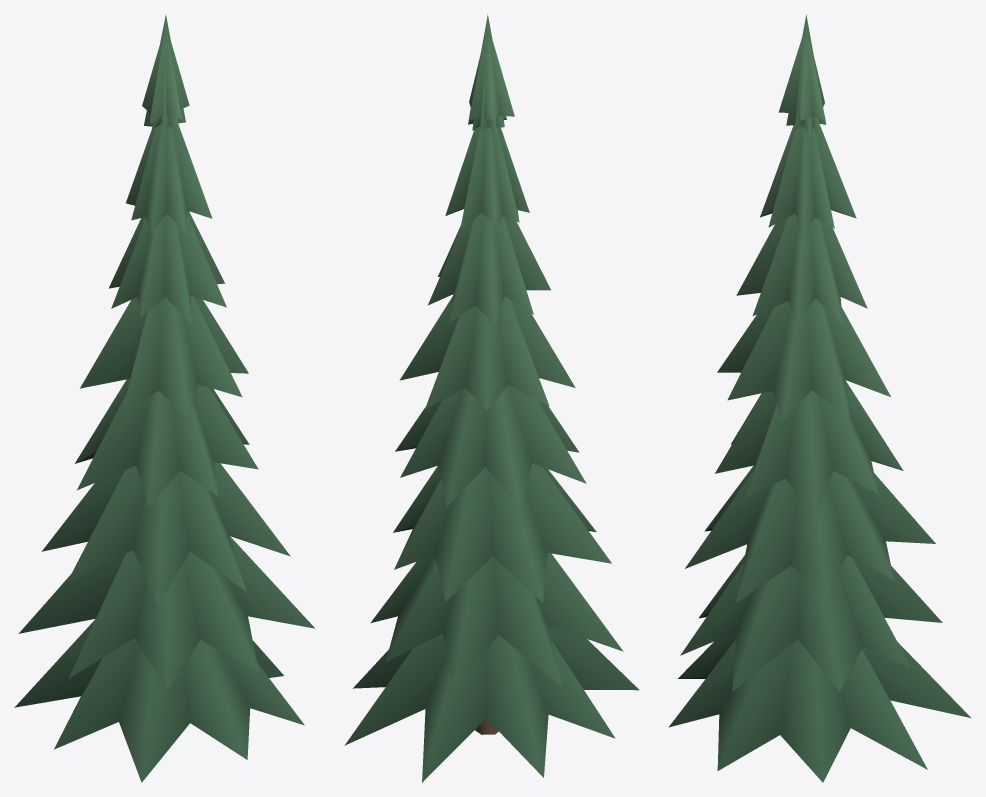
Rendered from epicea_lod0.glb.
3 views of the same model, side by side, from view 1: azimuth 30°, elevation 25°; view 2: azimuth 150°, elevation 25°; view 3: azimuth 270°, elevation 25° (orthographic).
Parts seen in each view (by area): view 1: epicea_lod0; view 2: epicea_lod0; view 3: epicea_lod0.
Boxes of the visible parts, x1=… form: epicea_lod0: x1=14, y1=14, x2=314, y2=782; epicea_lod0: x1=344, y1=14, x2=639, y2=782; epicea_lod0: x1=668, y1=15, x2=971, y2=782.
Bounding box in the file's own units: 7.88 × 21.8 × 8.29.
